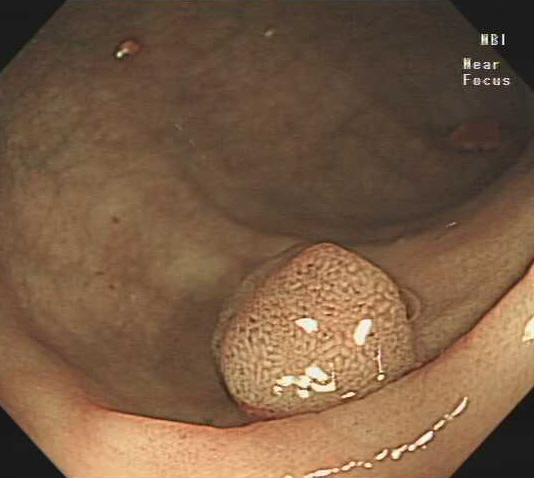adenoma: (206, 239, 416, 418)
